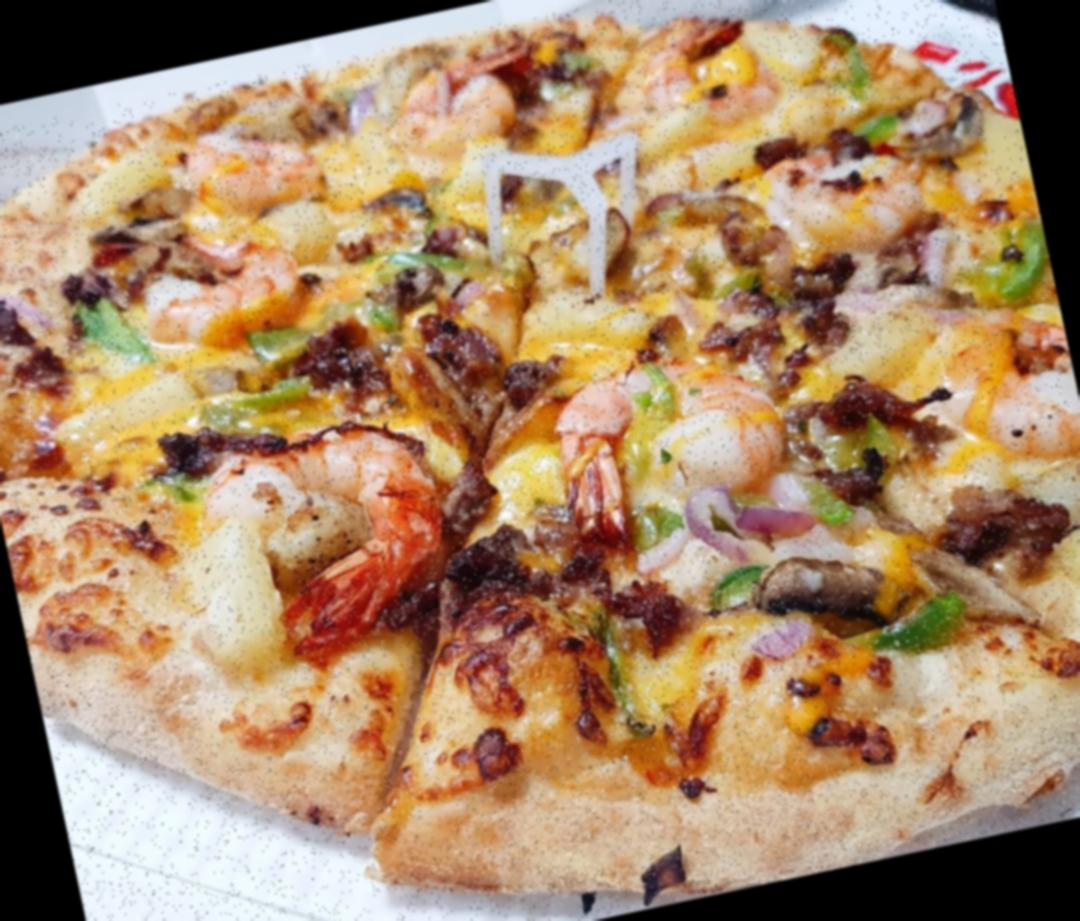Mushroom: (755, 525, 906, 646), (84, 195, 227, 304), (878, 86, 1014, 180)
Onion: (681, 470, 812, 564), (842, 267, 974, 347), (629, 520, 729, 594), (746, 612, 817, 672), (0, 264, 48, 335), (915, 226, 957, 286)
Peppers: (609, 358, 697, 510), (232, 297, 378, 364), (194, 372, 329, 434), (70, 286, 157, 374), (967, 216, 1052, 304), (875, 588, 973, 662), (374, 238, 481, 295), (815, 29, 878, 104), (837, 106, 898, 156)
Pizza: (0, 0, 1080, 921)
